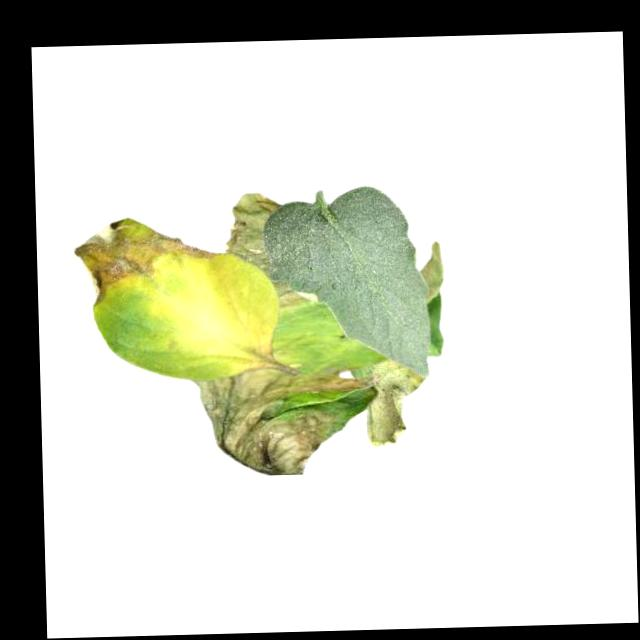Late_blight: (189, 362, 380, 480), (73, 216, 219, 308), (365, 359, 428, 453), (225, 191, 282, 258), (245, 256, 308, 313), (423, 241, 446, 304)
healthy: (261, 184, 428, 381)
